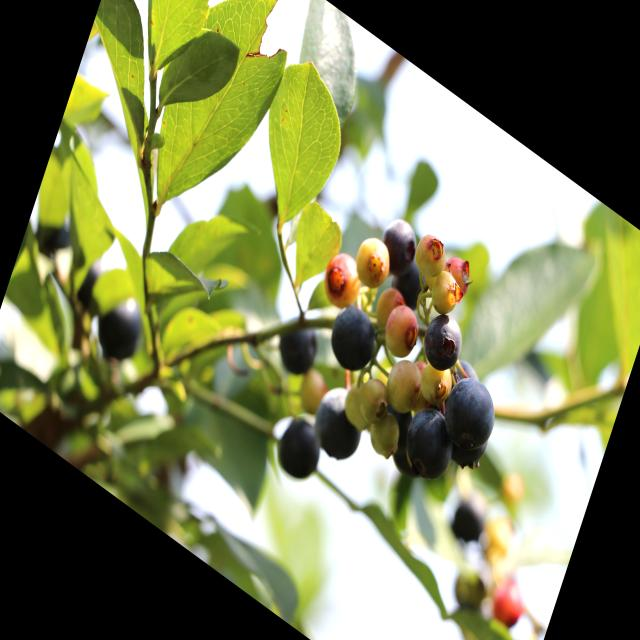blueberry: (305, 371, 377, 476), (434, 361, 504, 465), (397, 394, 465, 495), (86, 276, 152, 374), (269, 403, 334, 494), (324, 292, 385, 387), (271, 306, 327, 390), (371, 206, 424, 288), (417, 302, 469, 382)
blueberry-halfripe: (319, 243, 368, 316), (481, 572, 529, 638), (440, 248, 476, 298)
blueberry-unripe: (378, 292, 428, 368), (379, 349, 427, 423), (413, 349, 459, 417), (351, 228, 395, 292), (364, 401, 406, 464), (354, 370, 396, 432), (409, 225, 450, 287), (339, 376, 380, 436), (427, 264, 465, 321), (371, 277, 406, 331)
